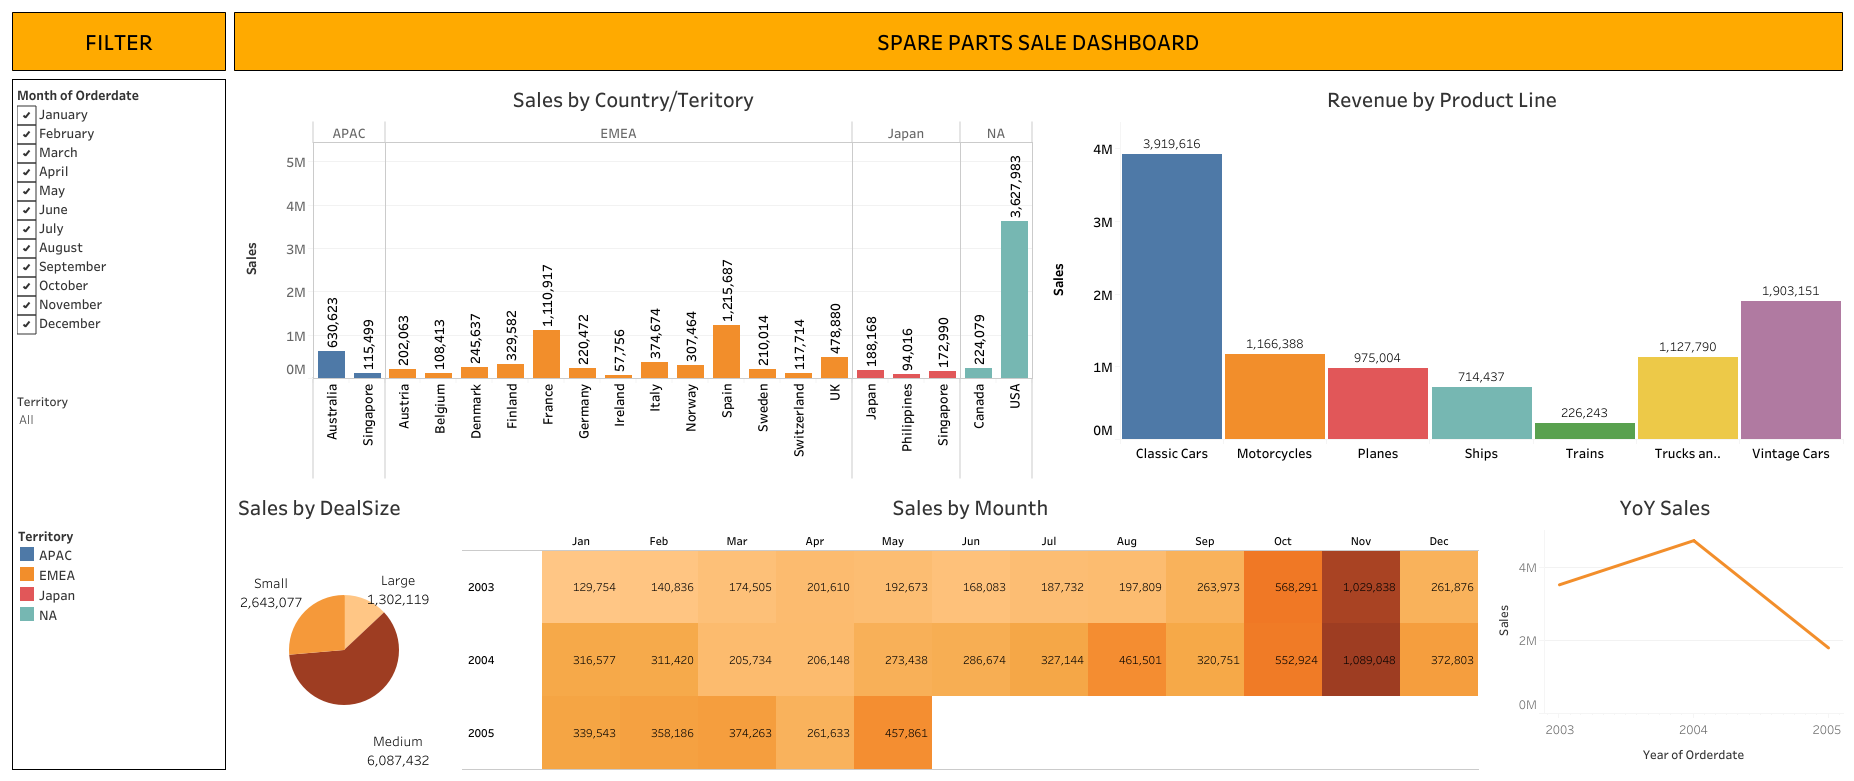

The dashboard page shown, as its layout file describes it:
{"tool":"tableau","page":{"name":"Dashboard 1","canvas":[1000,1000],"units":"permille","ordinal":0},"visuals":[{"type":"text","box":[5.1,9.3,119.5,85.7]},{"type":"text","box":[124.5,9.3,870.4,85.7]},{"type":"worksheet","title":"SalesbyCountryBarchart","mark":"Automatic","rows":["SALES"],"cols":["TERRITORY","COUNTRY"],"box":[124.5,94.9,434.3,523.1]},{"type":"worksheet","title":"RevenueHistogram","mark":"Automatic","rows":["SALES"],"cols":["PRODUCTLINE"],"box":[558.8,94.9,436.2,523.1]},{"type":"filter","title":"SalesbyCountryBarchart","param":"[federated.1usz5es02l130s139pgxu0qrcx0b].[mn:ORDERDATE:ok]","box":[8.2,100.7,113.2,339.1]},{"type":"filter","title":"PieChart","param":"[federated.1usz5es02l130s139pgxu0qrcx0b].[none:TERRITORY:nk]","box":[8.2,439.8,113.2,147]},{"type":"legend","title":"SalesbyCountryBarchart","param":"[federated.1usz5es02l130s139pgxu0qrcx0b].[none:TERRITORY:nk]","box":[8.2,586.8,113.2,123.8]},{"type":"worksheet","title":"PieChart","mark":"Pie","box":[124.5,618.1,144.1,372.7]},{"type":"worksheet","title":"Heatmap","mark":"Square","rows":["ORDERDATE"],"cols":["ORDERDATE"],"box":[268.6,618.1,496.2,372.7]},{"type":"worksheet","title":"SalesLineChart","mark":"Automatic","rows":["SALES"],"cols":["ORDERDATE"],"box":[764.8,618.1,230.1,372.7]}]}

Visuals, with their boxes on the dashboard's canvas, which has no fixed pixel size, in thousandths of its width and height (x1, y1, x2, y2). These are canvas units, not pixel positions in the 1854x781 screenshot, which may show the page scaled, cropped or inside an application window:
text: <bbox>5, 9, 125, 95</bbox>
text: <bbox>124, 9, 995, 95</bbox>
"SalesbyCountryBarchart" worksheet: <bbox>124, 95, 559, 618</bbox>
"RevenueHistogram" worksheet: <bbox>559, 95, 995, 618</bbox>
"SalesbyCountryBarchart" filter: <bbox>8, 101, 121, 440</bbox>
"PieChart" filter: <bbox>8, 440, 121, 587</bbox>
"SalesbyCountryBarchart" legend: <bbox>8, 587, 121, 711</bbox>
"PieChart" worksheet (Pie marks): <bbox>124, 618, 269, 991</bbox>
"Heatmap" worksheet (Square marks): <bbox>269, 618, 765, 991</bbox>
"SalesLineChart" worksheet: <bbox>765, 618, 995, 991</bbox>
